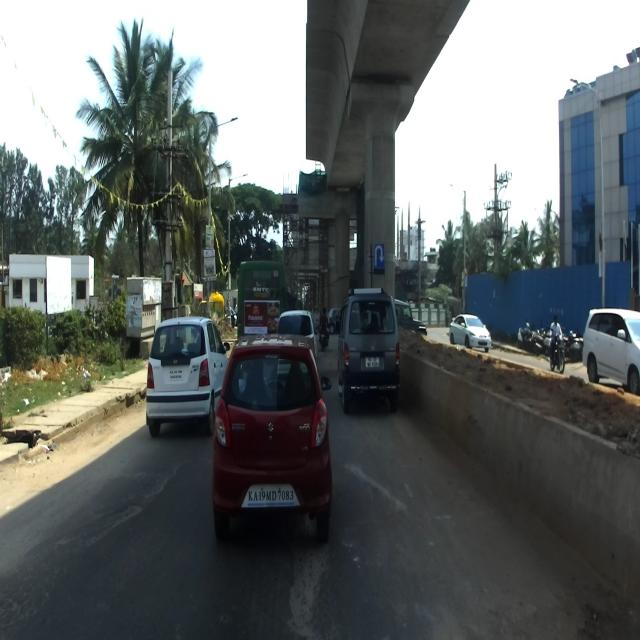car: (211, 332, 332, 544), (146, 314, 230, 443), (334, 287, 401, 412), (582, 306, 640, 392)
